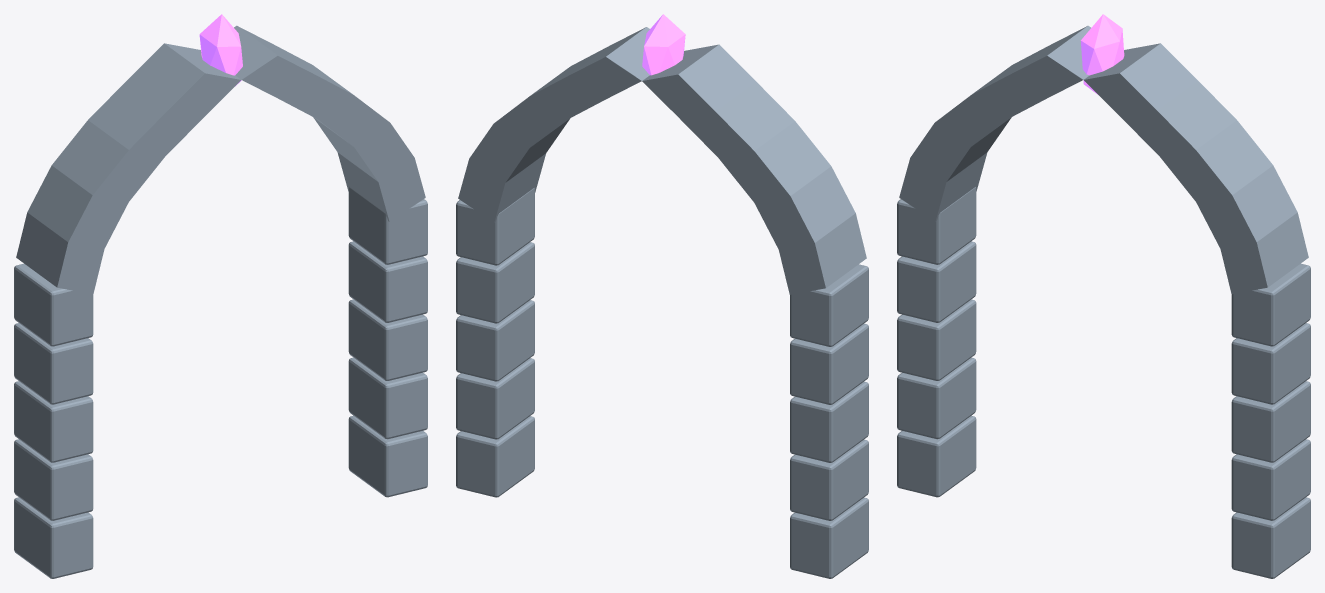
The model's file is arch.glb.
3 views of the same model, side by side, from view 1: azimuth 30°, elevation 25°; view 2: azimuth 150°, elevation 25°; view 3: azimuth 330°, elevation 25° (orthographic).
Parts seen in each view (by area): view 1: Arch_Archstone_-1_2, Arch_Archstone_-1_4, Arch_Jamb_-1_1, Arch_Jamb_-1_3, Arch_Jamb_1_0, Arch_Jamb_-1_2, Arch_Jamb_1_3, Arch_Jamb_-1_0, Arch_Jamb_1_1, Arch_Jamb_1_2, Arch_Archstone_-1_1, Arch_Archstone_-1_3 (+9 smaller); view 2: Arch_Archstone_-1_4, Arch_Archstone_-1_2, Arch_Jamb_1_0, Arch_Jamb_1_1, Arch_Jamb_1_3, Arch_Jamb_1_2, Arch_Jamb_-1_2, Arch_Jamb_-1_1, Arch_Jamb_-1_3, Arch_Jamb_-1_0, Arch_Archstone_-1_1, Arch_Archstone_-1_3 (+9 smaller); view 3: Arch_Archstone_1_2, Arch_Archstone_1_4, Arch_Jamb_1_1, Arch_Jamb_1_3, Arch_Jamb_1_2, Arch_Jamb_-1_0, Arch_Jamb_1_0, Arch_Jamb_-1_3, Arch_Jamb_-1_1, Arch_Jamb_-1_2, Arch_Archstone_1_1, Arch_Archstone_1_3 (+9 smaller).
Part boxes in pixels (x1,y1,x2,y2): Arch_Archstone_-1_2: (52, 120, 164, 201); Arch_Archstone_-1_4: (127, 43, 240, 116); Arch_Jamb_-1_1: (14, 439, 93, 520); Arch_Jamb_-1_3: (14, 323, 93, 404); Arch_Jamb_1_0: (348, 415, 427, 497); Arch_Jamb_-1_2: (14, 381, 93, 462); Arch_Jamb_1_3: (348, 241, 427, 322); Arch_Jamb_-1_0: (14, 497, 93, 578); Arch_Jamb_1_1: (348, 357, 427, 439); Arch_Jamb_1_2: (348, 299, 427, 380); Arch_Archstone_-1_1: (27, 165, 128, 248); Arch_Archstone_-1_3: (88, 80, 203, 156); Arch_Archstone_-1_4: (642, 44, 755, 117); Arch_Archstone_-1_2: (718, 121, 830, 202); Arch_Jamb_1_0: (456, 416, 534, 497); Arch_Jamb_1_1: (456, 358, 534, 439); Arch_Jamb_1_3: (456, 242, 534, 323); Arch_Jamb_1_2: (456, 300, 534, 381); Arch_Jamb_-1_2: (790, 381, 868, 462); Arch_Jamb_-1_1: (790, 439, 868, 520); Arch_Jamb_-1_3: (790, 323, 868, 404); Arch_Jamb_-1_0: (790, 497, 868, 578); Arch_Archstone_-1_1: (754, 166, 855, 249); Arch_Archstone_-1_3: (679, 81, 794, 157); Arch_Archstone_1_2: (1160, 120, 1272, 201); Arch_Archstone_1_4: (1084, 43, 1197, 116); Arch_Jamb_1_1: (1231, 439, 1310, 520); Arch_Jamb_1_3: (1231, 323, 1310, 404); Arch_Jamb_1_2: (1231, 381, 1310, 462); Arch_Jamb_-1_0: (897, 415, 976, 497); Arch_Jamb_1_0: (1231, 497, 1310, 578); Arch_Jamb_-1_3: (897, 241, 976, 322); Arch_Jamb_-1_1: (897, 357, 976, 439); Arch_Jamb_-1_2: (897, 299, 976, 380); Arch_Archstone_1_1: (1196, 165, 1297, 248); Arch_Archstone_1_3: (1121, 80, 1236, 156).
Bounding box in the file's own units: 5.1 × 6.55 × 0.96.
